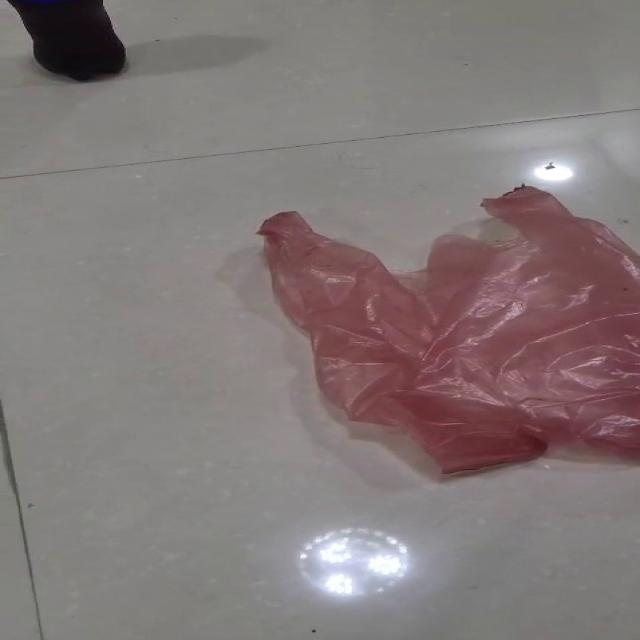plastic: (255, 184, 638, 474)
